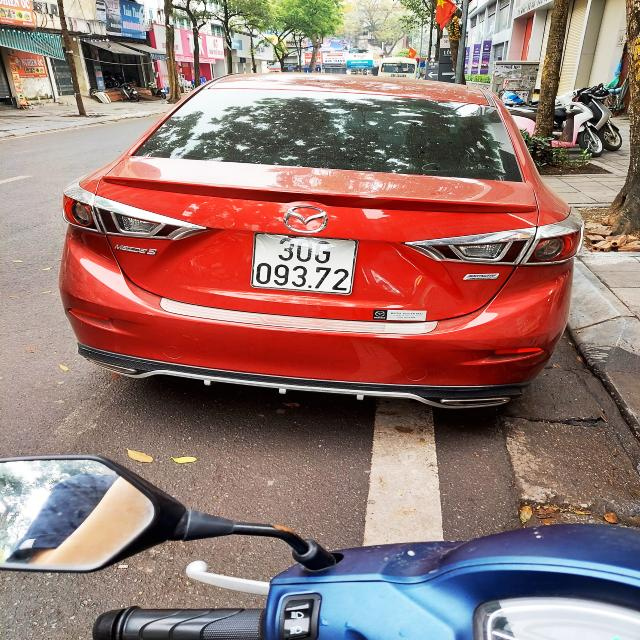license_plate: (247, 231, 364, 298)
